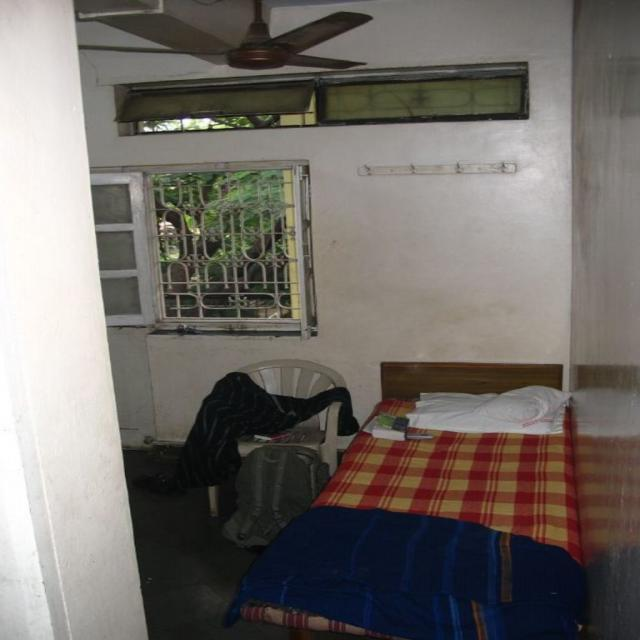Bulb: (74, 0, 364, 72)
